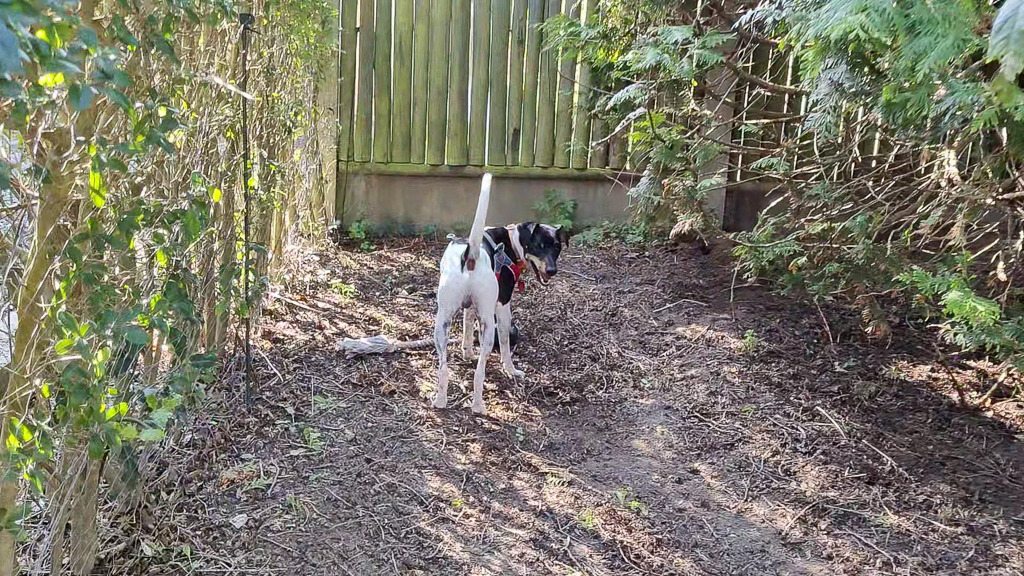Dog: (405, 158, 598, 432)
